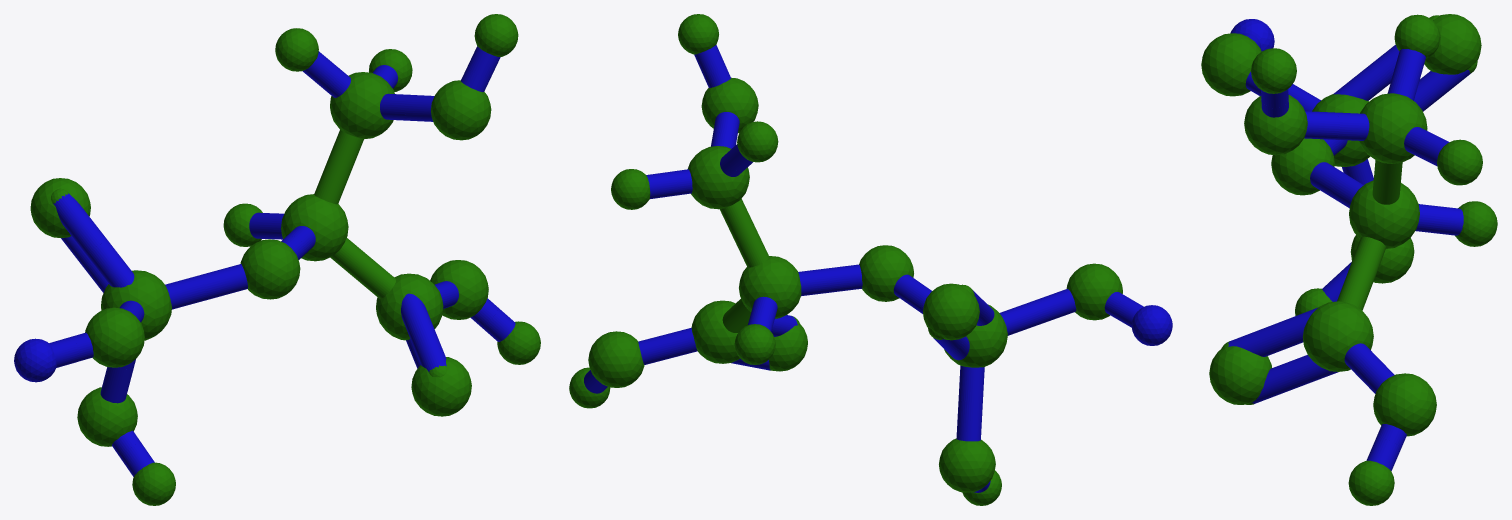
The model's file is phosphoglycerate2.obj.
3 renders of one model, left to right at view 1: azimuth 30°, elevation 25°; view 2: azimuth 150°, elevation 25°; view 3: azimuth 270°, elevation 25°, orthographic. The views are drawn at different scales.
Parts seen in each view (by area): view 1: ShapeIndexedFaceSet_ShapeIndexedFaceSet.001, Shape_ShapeIndexedFaceSet.001, Shape.004_ShapeIndexedFaceSet.001, Shape.009_ShapeIndexedFaceSet.001, Shape.008_ShapeIndexedFaceSet.001, Shape.002_ShapeIndexedFaceSet.001, Shape.005_ShapeIndexedFaceSet.001, Shape.007_ShapeIndexedFaceSet.001, Shape.001_ShapeIndexedFaceSet.001, Shape.003_ShapeIndexedFaceSet.001, Shape.006_ShapeIndexedFaceSet.001, Shape.074_ShapeIndexedFaceSet (+23 smaller); view 2: Shape_ShapeIndexedFaceSet.001, ShapeIndexedFaceSet_ShapeIndexedFaceSet.001, Shape.003_ShapeIndexedFaceSet.001, Shape.006_ShapeIndexedFaceSet.001, Shape.007_ShapeIndexedFaceSet.001, Shape.004_ShapeIndexedFaceSet.001, Shape.008_ShapeIndexedFaceSet.001, Shape.001_ShapeIndexedFaceSet.001, Shape.009_ShapeIndexedFaceSet.001, Shape.005_ShapeIndexedFaceSet.001, Shape.074_ShapeIndexedFaceSet, Shape.011_ShapeIndexedFaceSet.001 (+16 smaller); view 3: Shape.001_ShapeIndexedFaceSet.001, ShapeIndexedFaceSet_ShapeIndexedFaceSet.001, Shape_ShapeIndexedFaceSet.001, Shape.003_ShapeIndexedFaceSet.001, Shape.002_ShapeIndexedFaceSet.001, Shape.008_ShapeIndexedFaceSet.001, Shape.009_ShapeIndexedFaceSet.001, Shape.006_ShapeIndexedFaceSet.001, Shape.004_ShapeIndexedFaceSet.001, ShapeIndexedFaceSet.002_ShapeIndexedFaceSet, Shape.016_ShapeIndexedFaceSet.001, Shape.010_ShapeIndexedFaceSet.001 (+33 smaller).
Boxes of the visible parts, x1,y1,x2,y2 form: ShapeIndexedFaceSet_ShapeIndexedFaceSet.001: (330,72,394,139); Shape_ShapeIndexedFaceSet.001: (281,194,348,261); Shape.004_ShapeIndexedFaceSet.001: (240,239,300,299); Shape.009_ShapeIndexedFaceSet.001: (431,80,491,140); Shape.008_ShapeIndexedFaceSet.001: (85,307,144,367); Shape.002_ShapeIndexedFaceSet.001: (411,357,471,416); Shape.005_ShapeIndexedFaceSet.001: (101,270,171,340); Shape.007_ShapeIndexedFaceSet.001: (77,387,137,446); Shape.001_ShapeIndexedFaceSet.001: (376,273,443,340); Shape.003_ShapeIndexedFaceSet.001: (430,260,488,319); Shape.006_ShapeIndexedFaceSet.001: (30,178,90,238); Shape.074_ShapeIndexedFaceSet: (314,130,363,204); Shape_ShapeIndexedFaceSet.001: (739,256,801,318); ShapeIndexedFaceSet_ShapeIndexedFaceSet.001: (688,146,749,209); Shape.003_ShapeIndexedFaceSet.001: (588,331,644,387); Shape.006_ShapeIndexedFaceSet.001: (923,283,979,340); Shape.007_ShapeIndexedFaceSet.001: (939,438,995,492); Shape.004_ShapeIndexedFaceSet.001: (859,245,913,301); Shape.008_ShapeIndexedFaceSet.001: (1066,263,1122,320); Shape.001_ShapeIndexedFaceSet.001: (691,300,739,363); Shape.009_ShapeIndexedFaceSet.001: (701,77,758,133); Shape.005_ShapeIndexedFaceSet.001: (944,304,1007,367); Shape.074_ShapeIndexedFaceSet: (719,199,769,267); Shape.011_ShapeIndexedFaceSet.001: (737,121,778,162); Shape.001_ShapeIndexedFaceSet.001: (1302,301,1373,371); ShapeIndexedFaceSet_ShapeIndexedFaceSet.001: (1359,93,1427,163); Shape_ShapeIndexedFaceSet.001: (1349,180,1419,248); Shape.003_ShapeIndexedFaceSet.001: (1373,373,1436,436); Shape.002_ShapeIndexedFaceSet.001: (1209,346,1271,404); Shape.008_ShapeIndexedFaceSet.001: (1201,33,1261,96); Shape.009_ShapeIndexedFaceSet.001: (1244,95,1307,155); Shape.006_ShapeIndexedFaceSet.001: (1424,14,1481,74); Shape.004_ShapeIndexedFaceSet.001: (1271,138,1334,195); ShapeIndexedFaceSet.002_ShapeIndexedFaceSet: (1337,236,1386,310); Shape.016_ShapeIndexedFaceSet.001: (1251,48,1296,93); Shape.010_ShapeIndexedFaceSet.001: (1437,139,1482,185).
Bounding box in the file's own units: 77.06 × 54.13 × 32.55.
